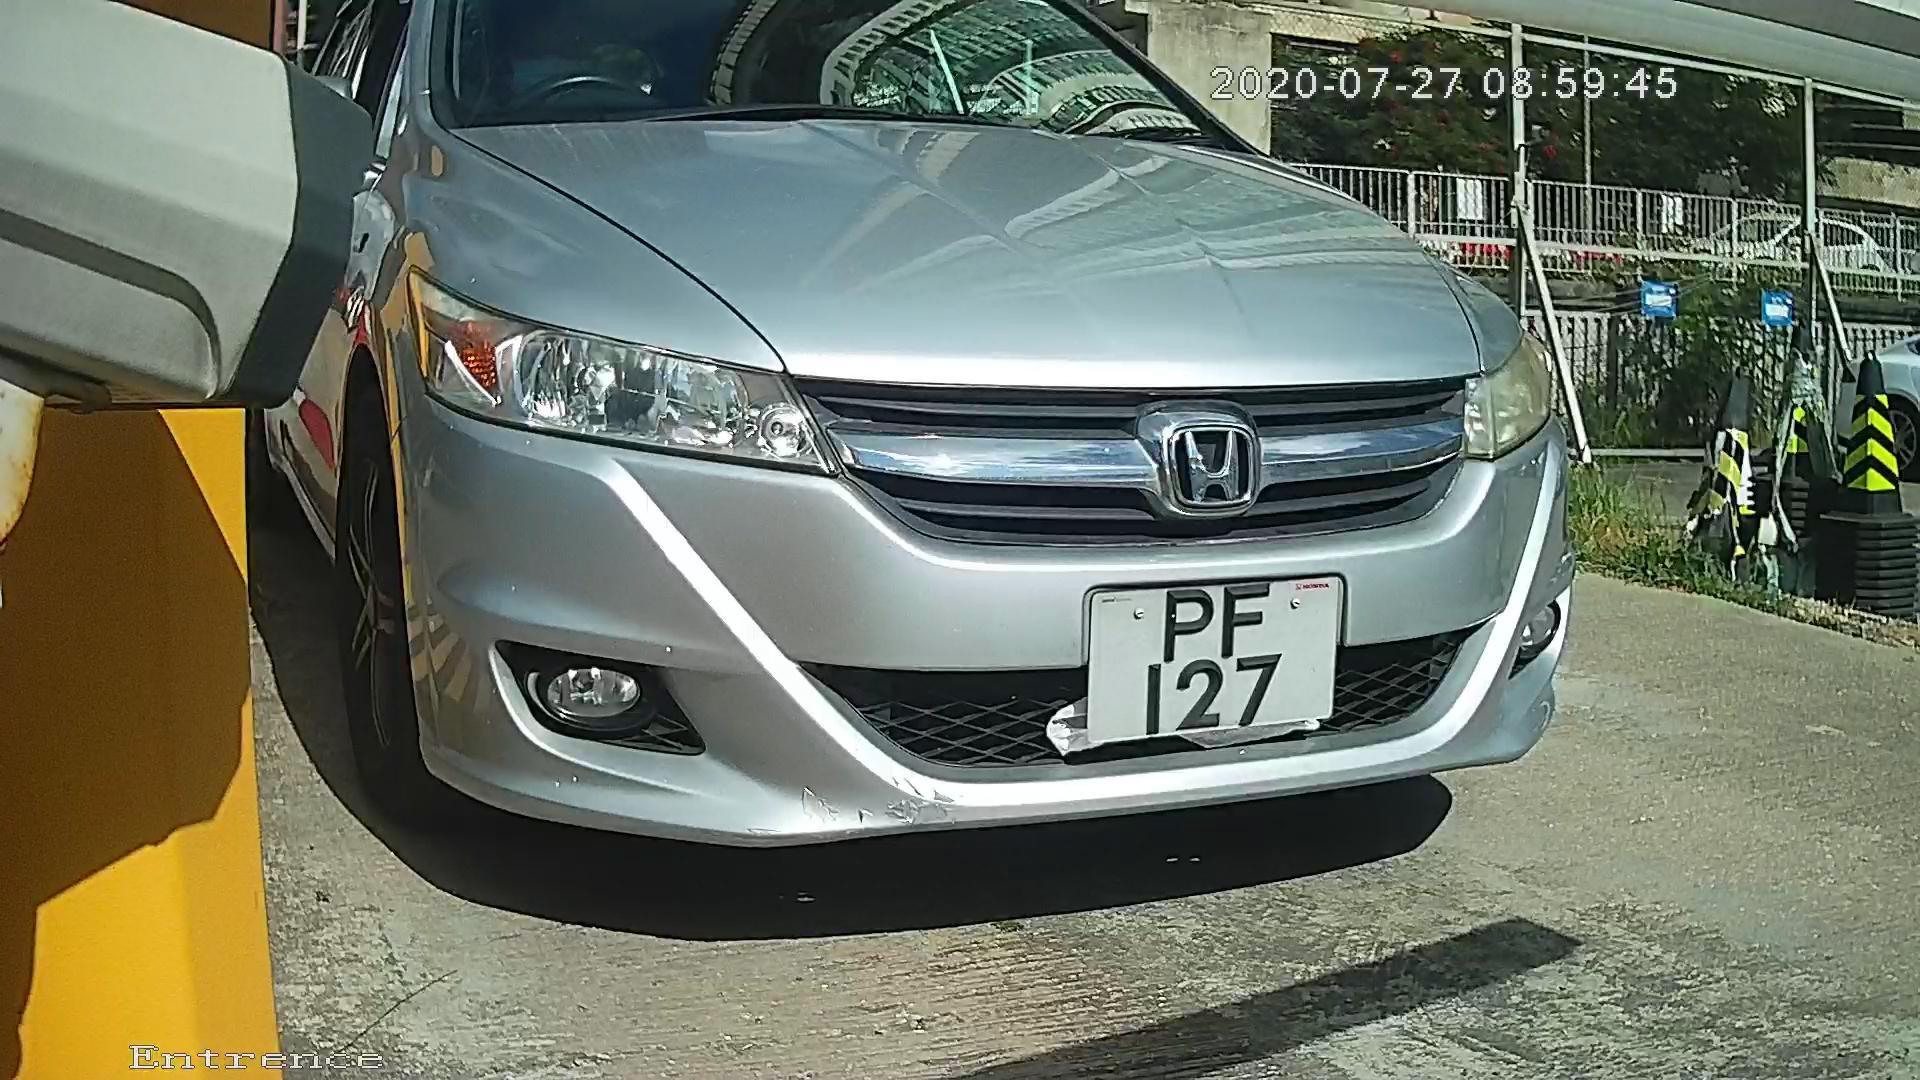Car: (138, 25, 1621, 974)
License Plate: (1055, 565, 1363, 748)
